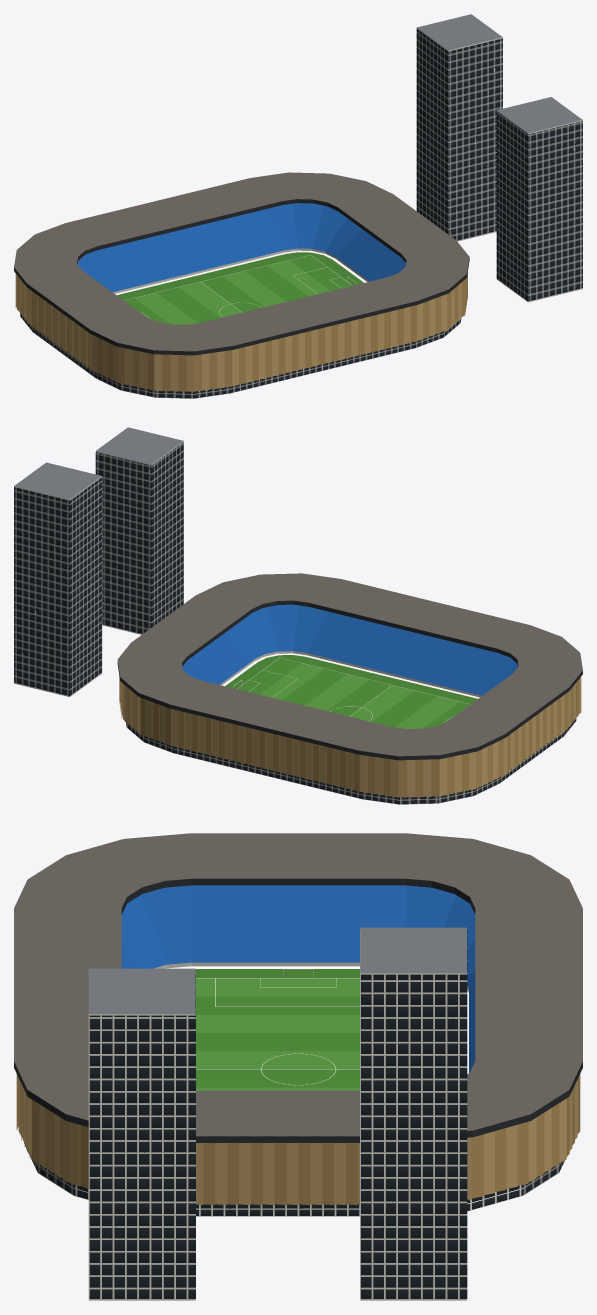
File: stade_lucerne.glb
3 renders of one model, top to bottom at view 1: azimuth 30°, elevation 25°; view 2: azimuth 150°, elevation 25°; view 3: azimuth 270°, elevation 25°, orthographic. The views are drawn at different scales.
Visible parts, largest first — view 1: stade_lucerne; view 2: stade_lucerne; view 3: stade_lucerne.
Part boxes in pixels (x1,y1,x2,y2): stade_lucerne: (14, 14, 582, 398); stade_lucerne: (14, 427, 582, 804); stade_lucerne: (14, 833, 582, 1300).
Size of the model in its own units: 220 by 88 by 138.
Materials: 2 (2 with a texture image).
